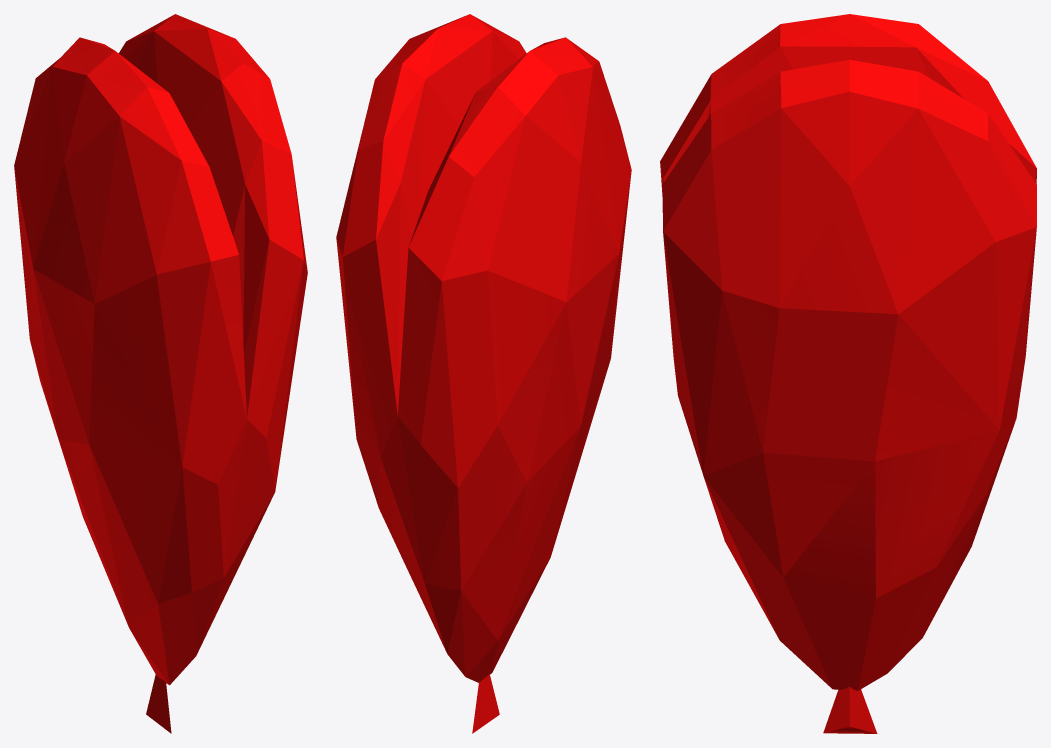
File: item_balloon_heart.glb
The picture shows the model from 3 angles, left to right: view 1: azimuth 30°, elevation 25°; view 2: azimuth 150°, elevation 25°; view 3: azimuth 270°, elevation 25°; orthographic projection. The views are drawn at different scales.
Parts seen in each view (by area): view 1: Balloon_Heart_Deflated; view 2: Balloon_Heart_Deflated; view 3: Balloon_Heart_Deflated.
Part boxes in pixels (left/top/right/bottom): Balloon_Heart_Deflated: left=14, top=14, right=307, bottom=733; Balloon_Heart_Deflated: left=336, top=14, right=631, bottom=733; Balloon_Heart_Deflated: left=660, top=14, right=1036, bottom=733.
Size of the model in its own units: 0.022 by 0.0683 by 0.0334.
